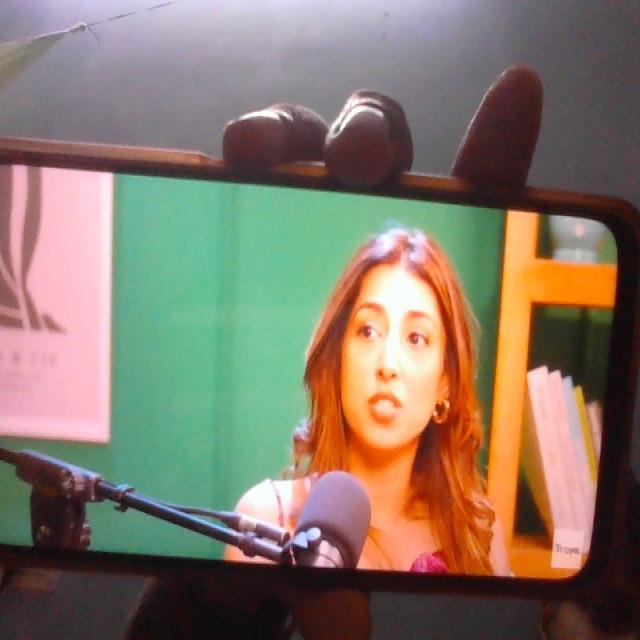fake: (333, 225, 456, 459)
